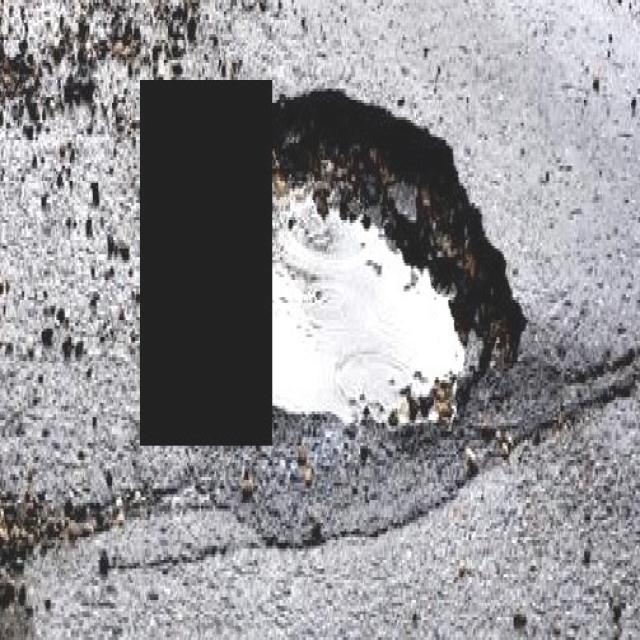road-pothole: (272, 86, 535, 430)
